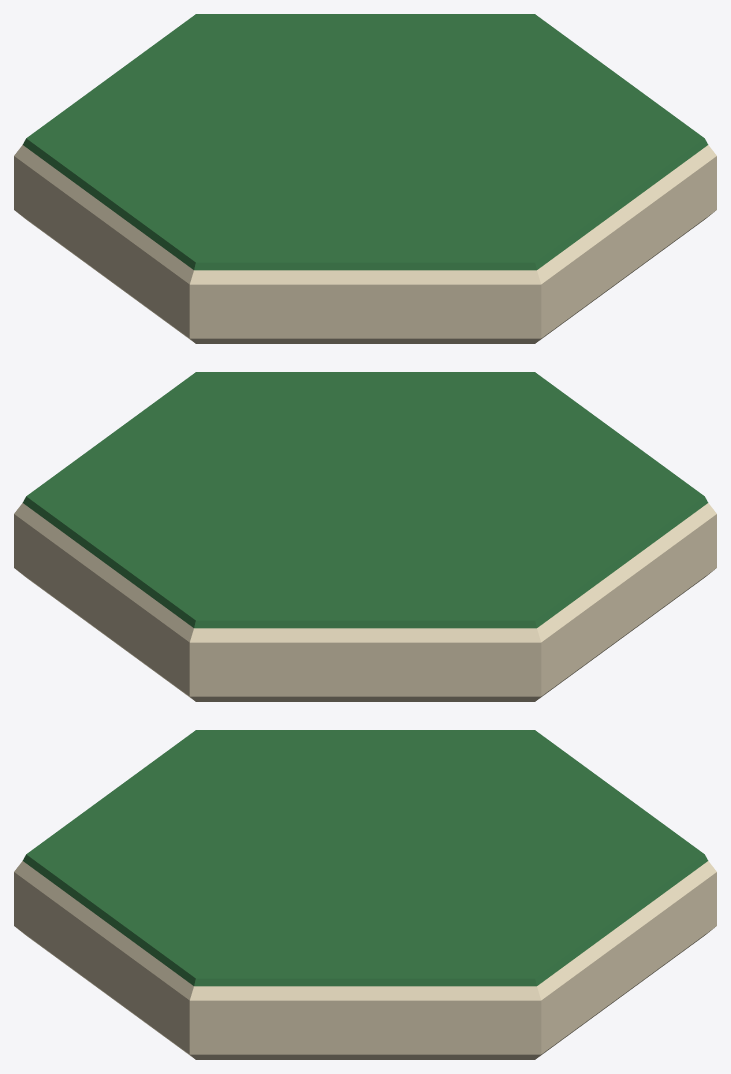
File: foundation-forest.glb
3 views of the same model, one above another, from view 1: azimuth 30°, elevation 25°; view 2: azimuth 150°, elevation 25°; view 3: azimuth 270°, elevation 25° (orthographic).
Visible parts, largest first — view 1: foundation-forest.003, foundation-forest.001, foundation-forest.002, foundation-forest; view 2: foundation-forest.003, foundation-forest.001, foundation-forest.002, foundation-forest; view 3: foundation-forest.003, foundation-forest.001, foundation-forest.002, foundation-forest.
Part boxes in pixels (x1=…): foundation-forest.003: x1=22, y1=14, x2=708, y2=270; foundation-forest.001: x1=14, y1=156, x2=716, y2=338; foundation-forest.002: x1=14, y1=145, x2=716, y2=284; foundation-forest: x1=16, y1=211, x2=714, y2=343; foundation-forest.003: x1=22, y1=372, x2=708, y2=628; foundation-forest.001: x1=14, y1=514, x2=716, y2=696; foundation-forest.002: x1=14, y1=503, x2=716, y2=642; foundation-forest: x1=16, y1=569, x2=714, y2=701; foundation-forest.003: x1=22, y1=730, x2=708, y2=986; foundation-forest.001: x1=14, y1=872, x2=716, y2=1054; foundation-forest.002: x1=14, y1=861, x2=716, y2=1000; foundation-forest: x1=16, y1=927, x2=714, y2=1059.
Size of the model in its own units: 1.7 by 0.25 by 1.96.
